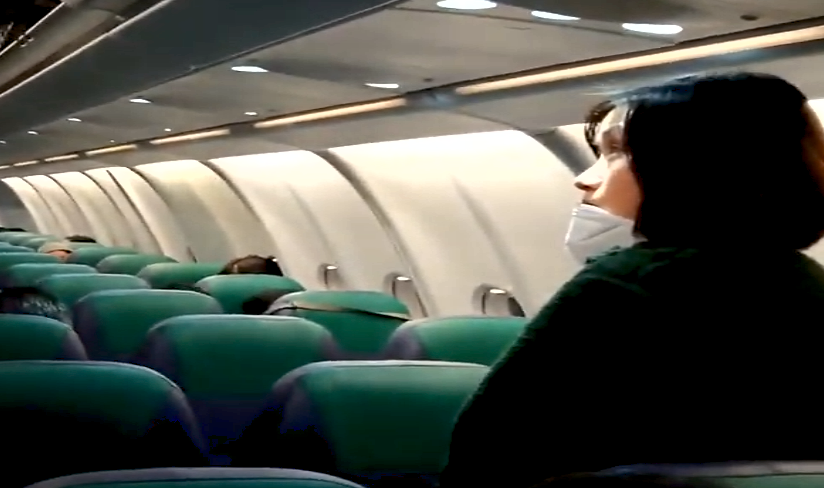mask_weared_incorrect: (559, 68, 732, 265)
